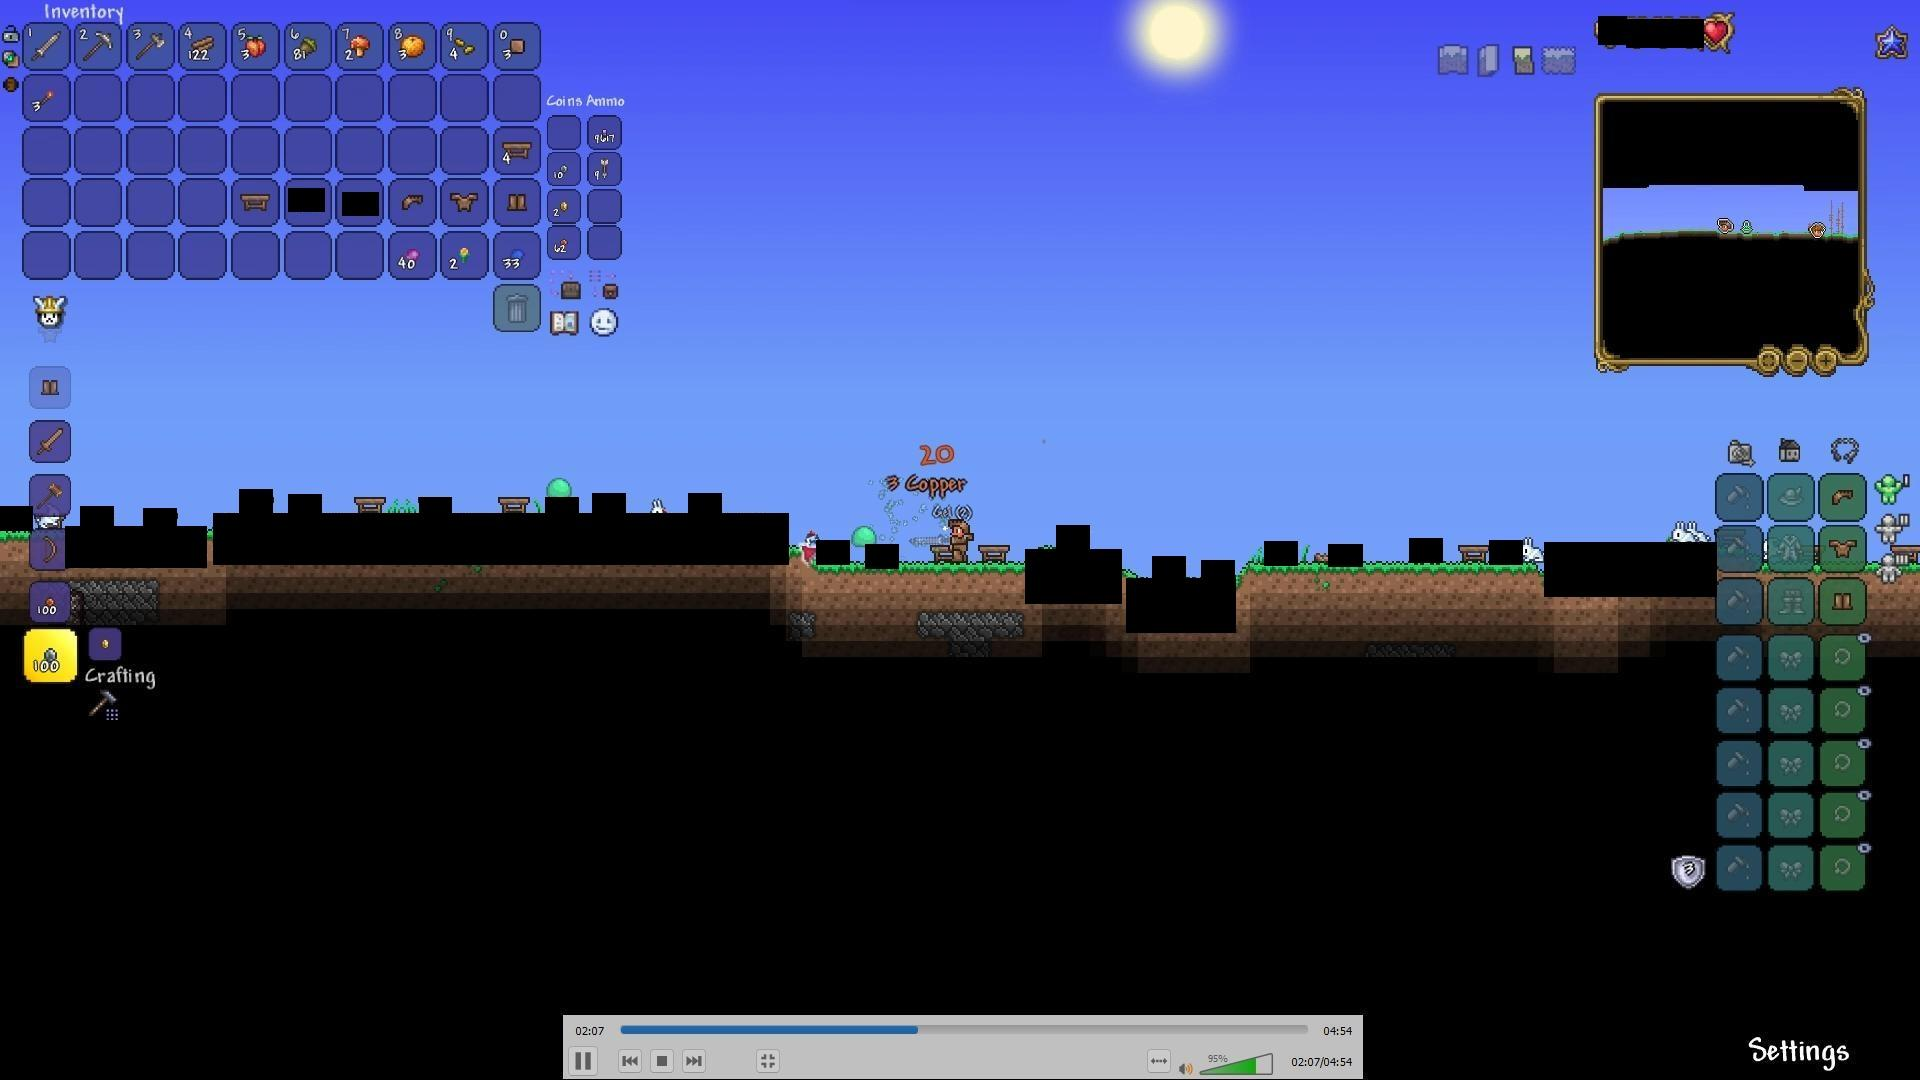breastplate: (1832, 537, 1859, 558), (448, 190, 477, 210)
dirt: (1236, 563, 1539, 622), (804, 563, 1023, 612), (1, 525, 26, 567)
heart: (1705, 18, 1731, 46)
helmet: (400, 190, 429, 215), (1829, 484, 1857, 509)
legs: (1832, 587, 1857, 616), (37, 375, 62, 402), (505, 186, 530, 214)
slime: (542, 468, 574, 496), (848, 517, 880, 545)
wood: (189, 33, 218, 61)
workbench: (928, 542, 963, 567), (500, 138, 535, 162), (236, 189, 273, 211), (1457, 539, 1490, 564), (353, 495, 385, 520), (498, 495, 531, 518), (978, 541, 1011, 564)
